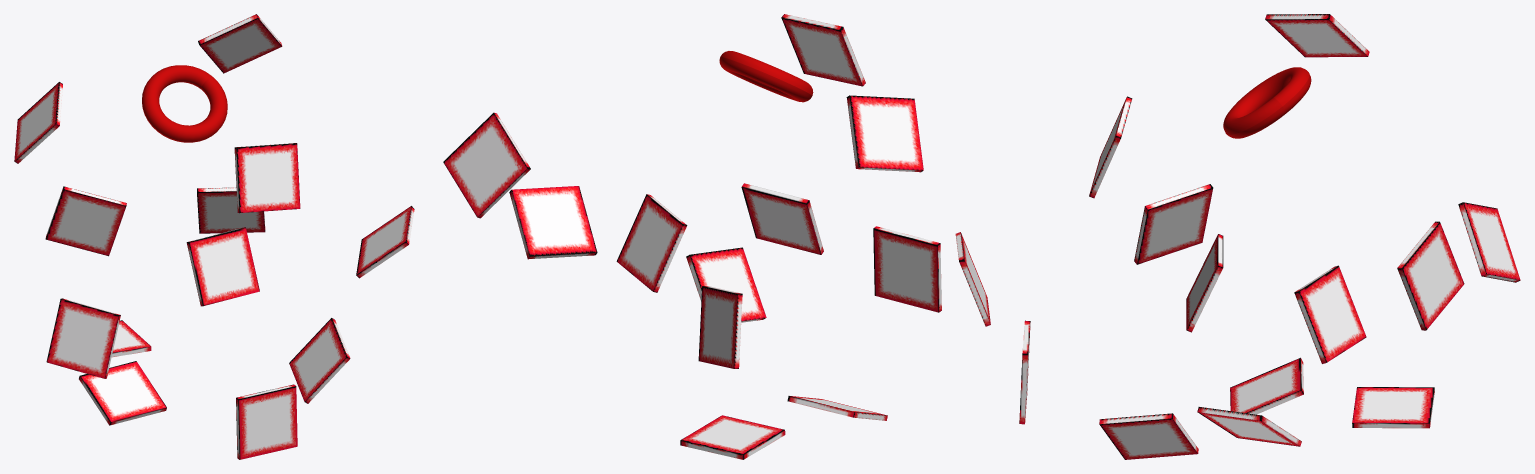
The model's file is bouncelevel11panels.fbx.
3 renders of one model, left to right at view 1: azimuth 30°, elevation 25°; view 2: azimuth 150°, elevation 25°; view 3: azimuth 270°, elevation 25°, orthographic. The views are drawn at different scales.
Visible parts, largest first — view 1: Torus; view 2: Torus; view 3: Torus.
Boxes of the visible parts, x1,y1,x2,y2 form: Torus: (14, 14, 414, 459); Torus: (443, 14, 990, 459); Torus: (1019, 14, 1520, 459).
Bounding box in the file's own units: 2071 × 1587 × 1932.
1 material, 1 textured.
